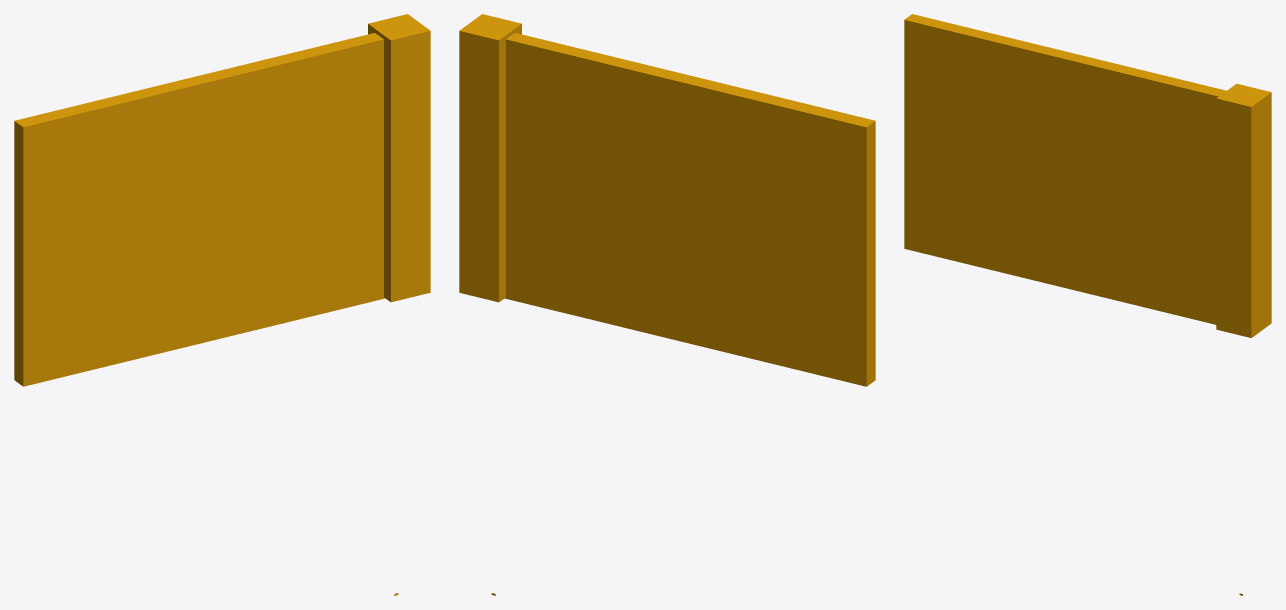
Rendered from xikiFlag.fbx.
3 views of the same model, side by side, from view 1: azimuth 30°, elevation 25°; view 2: azimuth 150°, elevation 25°; view 3: azimuth 330°, elevation 25° (orthographic). The views are drawn at different scales.
Visible parts, largest first — view 1: Flag; view 2: Flag; view 3: Flag.
Boxes of the visible parts, left/top/right/bottom form: Flag: left=14, top=14, right=430, bottom=595; Flag: left=459, top=14, right=875, bottom=595; Flag: left=904, top=14, right=1271, bottom=595.
Size of the model in its own units: 20.15 by 27.29 by 2.
